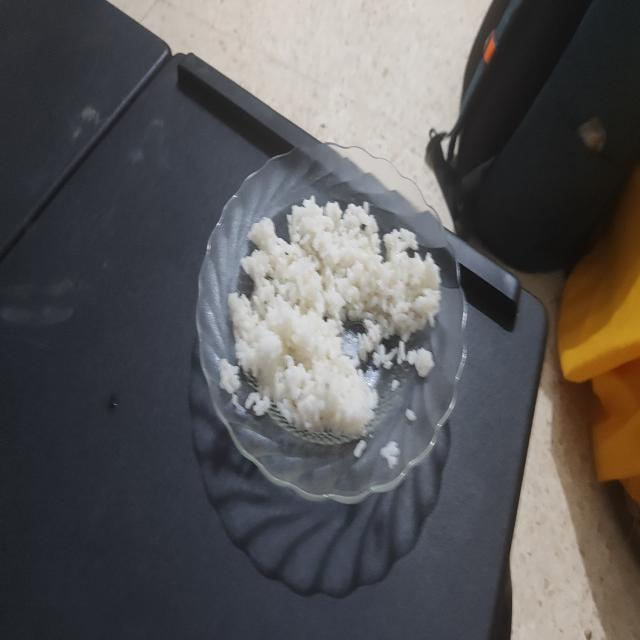nasi_putih: (220, 196, 441, 438)
